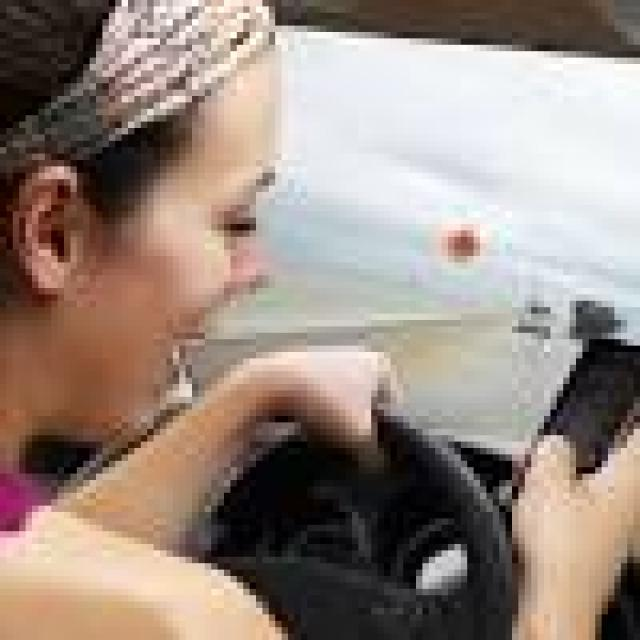Cellphone_texting: (499, 327, 640, 596)
